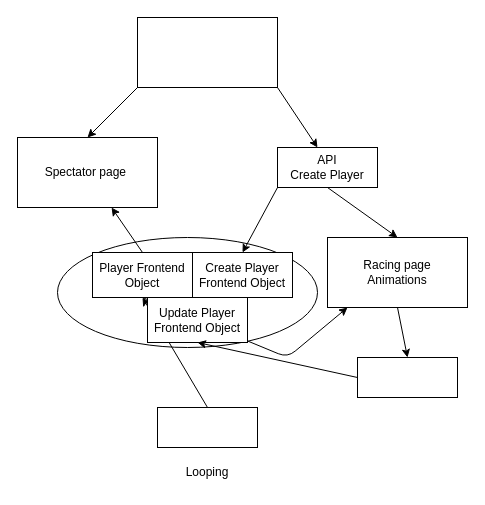
Image size: 485x505. Some labels were removed from this diagram. Each missing label, with the centre of its shape:
"API Get Positions" belongs at point (207, 427).
"Text Input" belongs at point (407, 377).
"Welcome page" belongs at point (207, 52).
